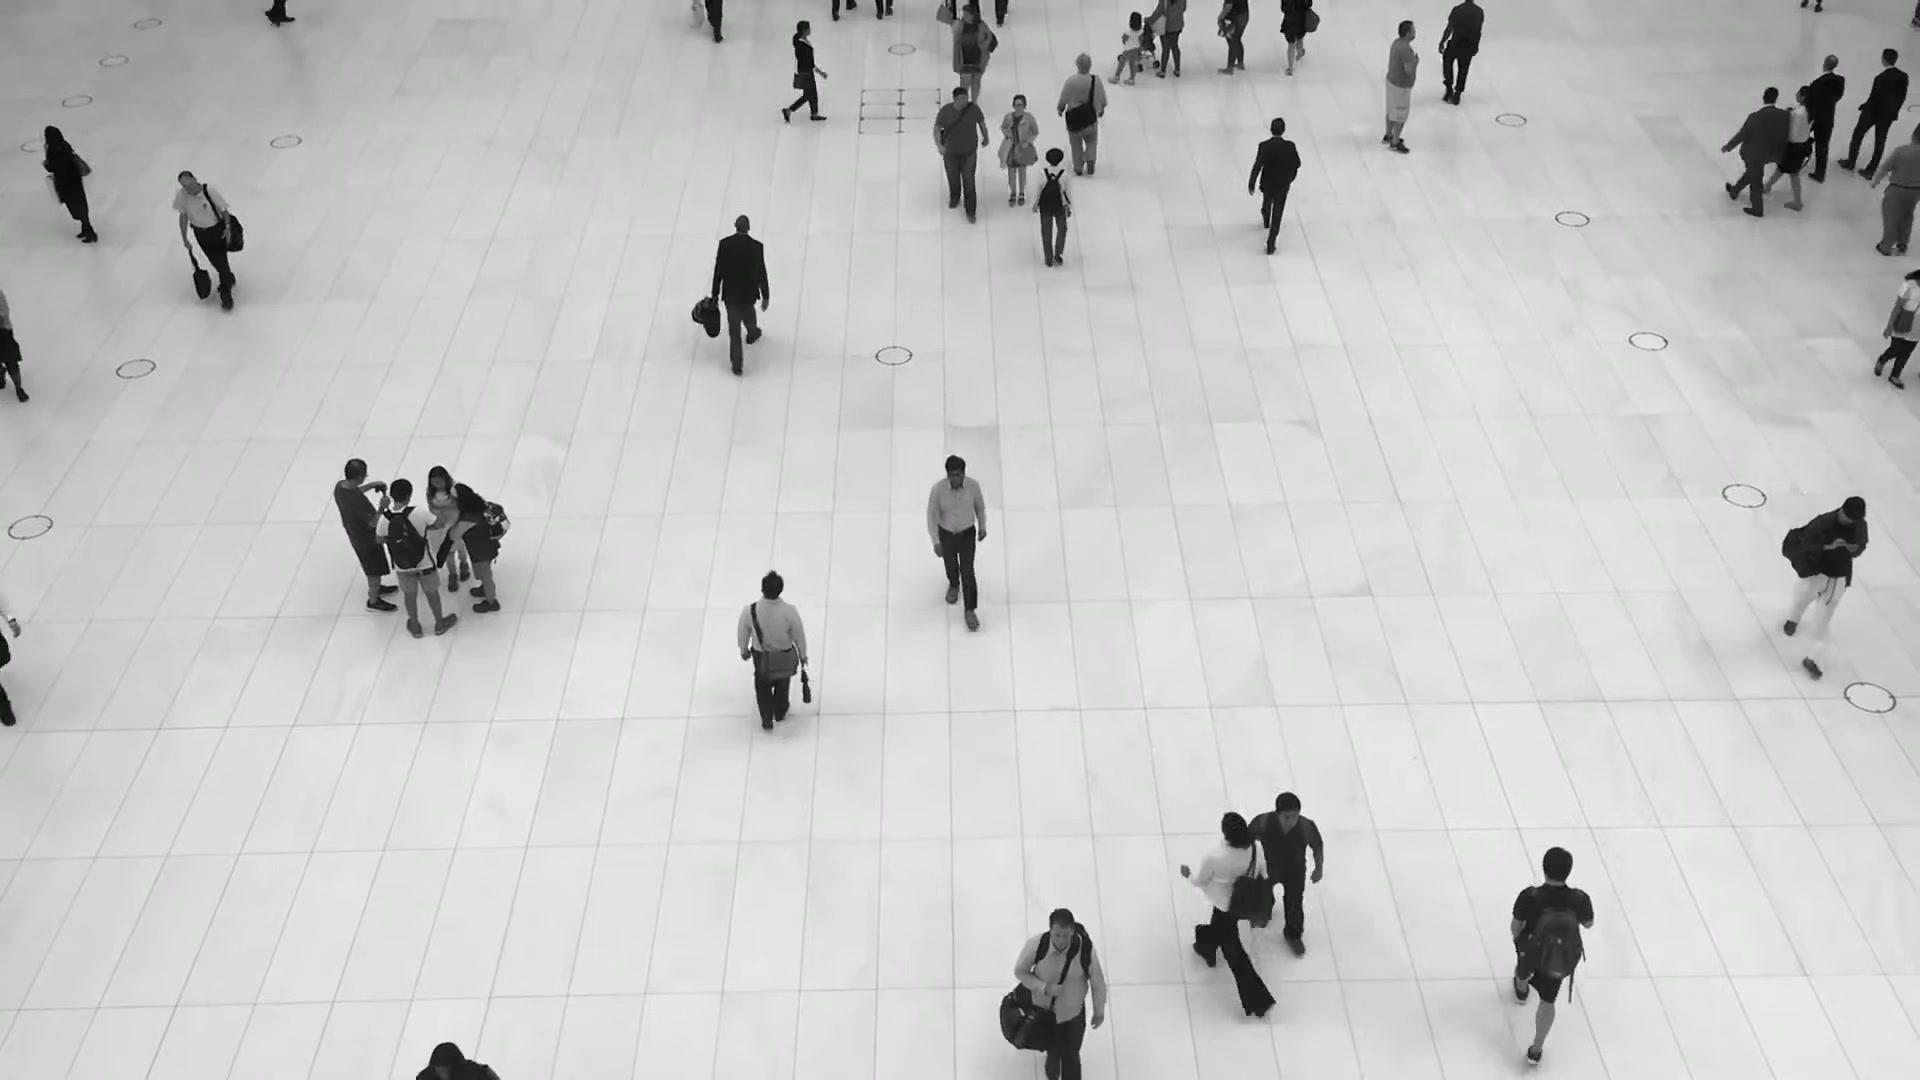person: (1506, 845, 1598, 1057), (1014, 903, 1109, 1080), (1184, 811, 1271, 1001), (1783, 492, 1871, 670), (375, 477, 460, 635), (734, 573, 809, 750), (1247, 793, 1325, 956), (924, 452, 992, 617), (334, 458, 400, 611), (172, 168, 241, 307), (712, 211, 771, 369), (1727, 85, 1791, 215), (1848, 47, 1909, 179), (930, 84, 991, 214), (1246, 114, 1303, 249), (41, 123, 99, 244), (449, 482, 501, 614), (1057, 56, 1109, 186), (1772, 84, 1820, 208), (425, 464, 470, 592), (1029, 150, 1073, 275), (782, 19, 834, 124), (1382, 19, 1420, 154), (1808, 54, 1848, 182), (1437, 0, 1484, 110), (998, 95, 1038, 211), (948, 6, 992, 100), (1111, 10, 1144, 87)
